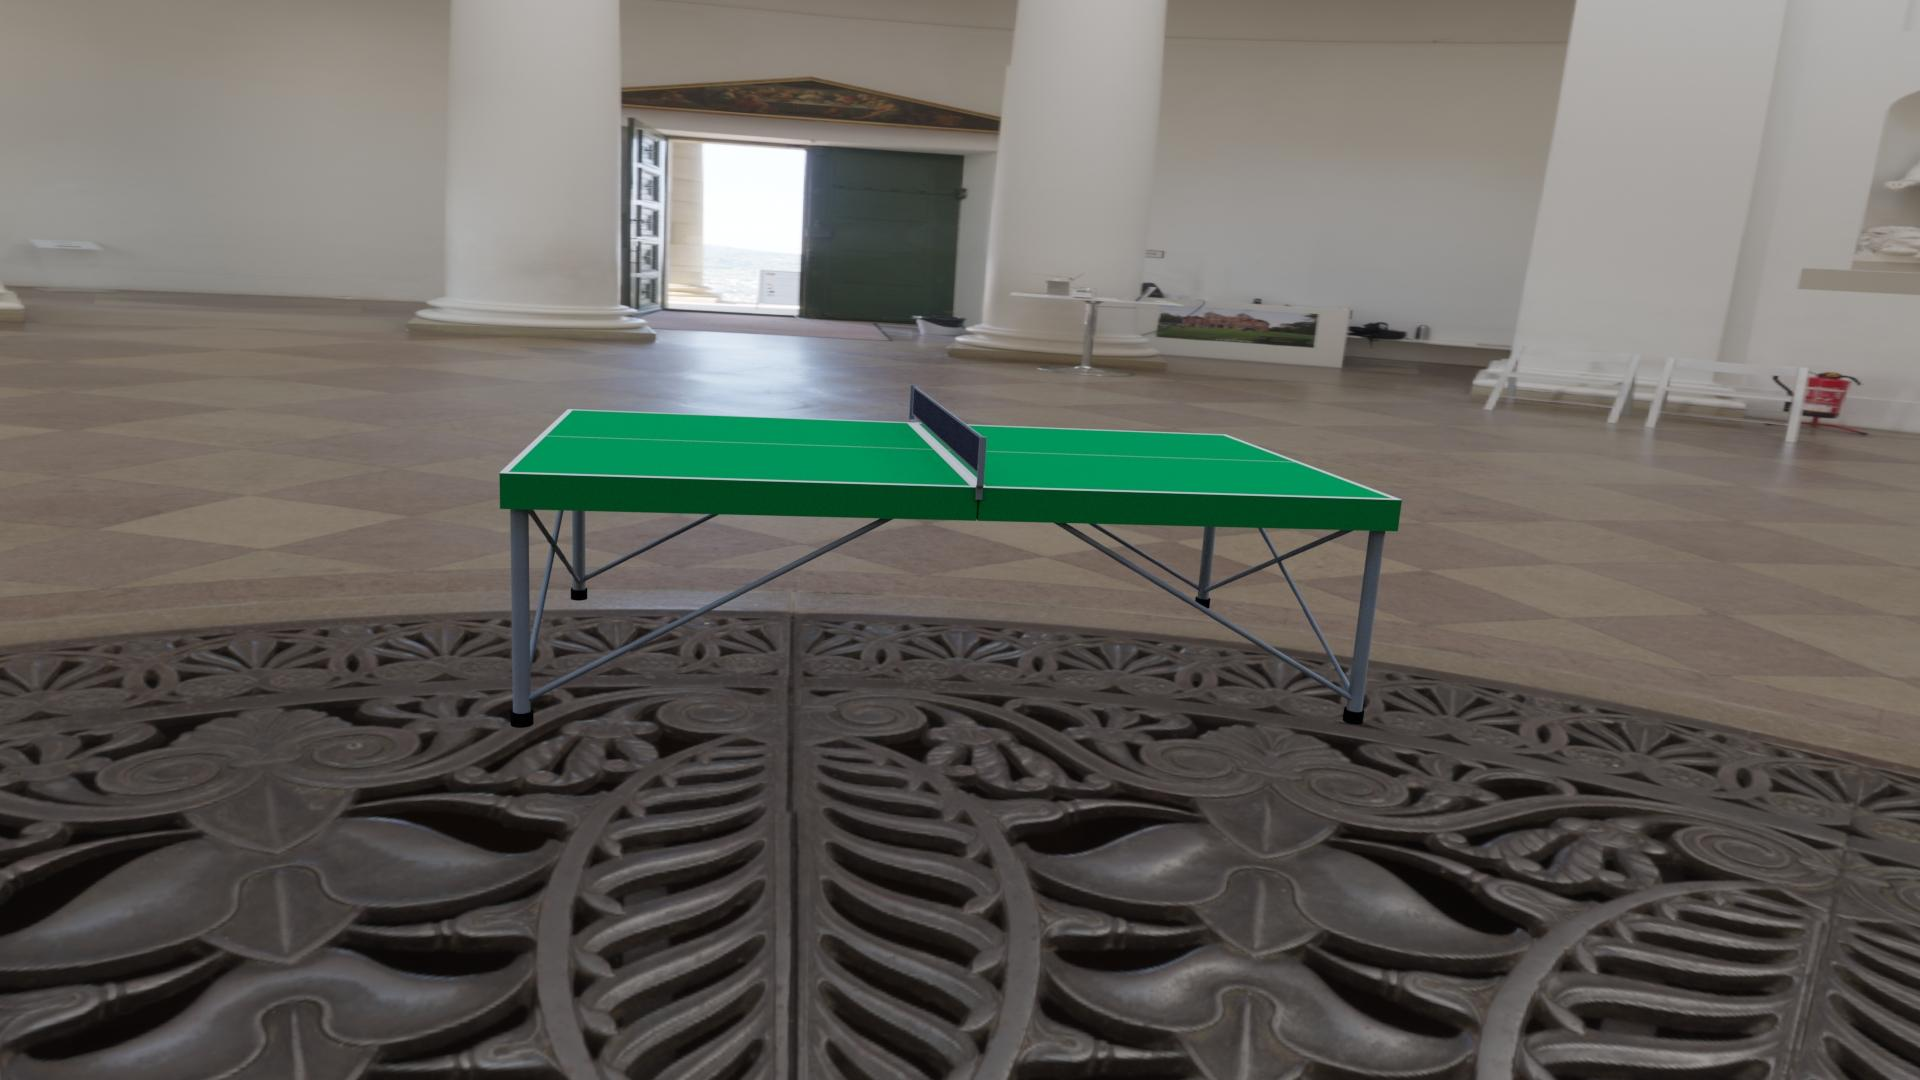table: (508, 410, 1393, 498)
